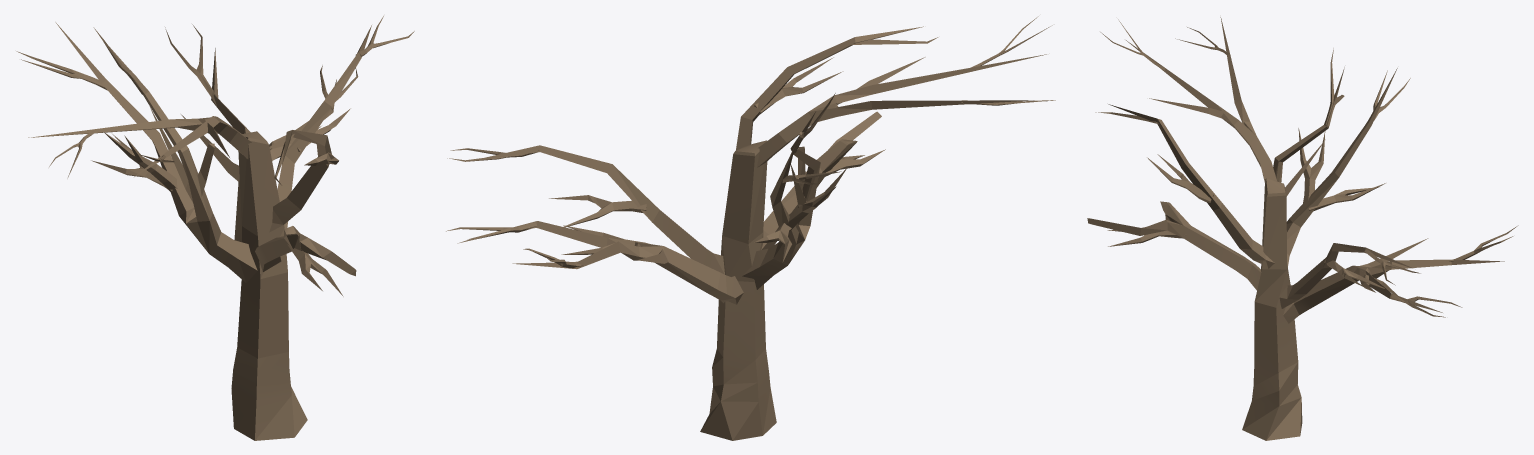
Rendered from tree_bare_a_3.FBX.
3 renders of one model, left to right at view 1: azimuth 30°, elevation 25°; view 2: azimuth 150°, elevation 25°; view 3: azimuth 270°, elevation 25°, orthographic. The views are drawn at different scales.
Parts seen in each view (by area): view 1: tree_bare_a_3; view 2: tree_bare_a_3; view 3: tree_bare_a_3.
Boxes of the visible parts, x1,y1,x2,y2 form: tree_bare_a_3: [16, 16, 414, 440]; tree_bare_a_3: [446, 16, 1055, 440]; tree_bare_a_3: [1087, 17, 1518, 440].
Size of the model in its own units: 4.3 by 3.33 by 4.
